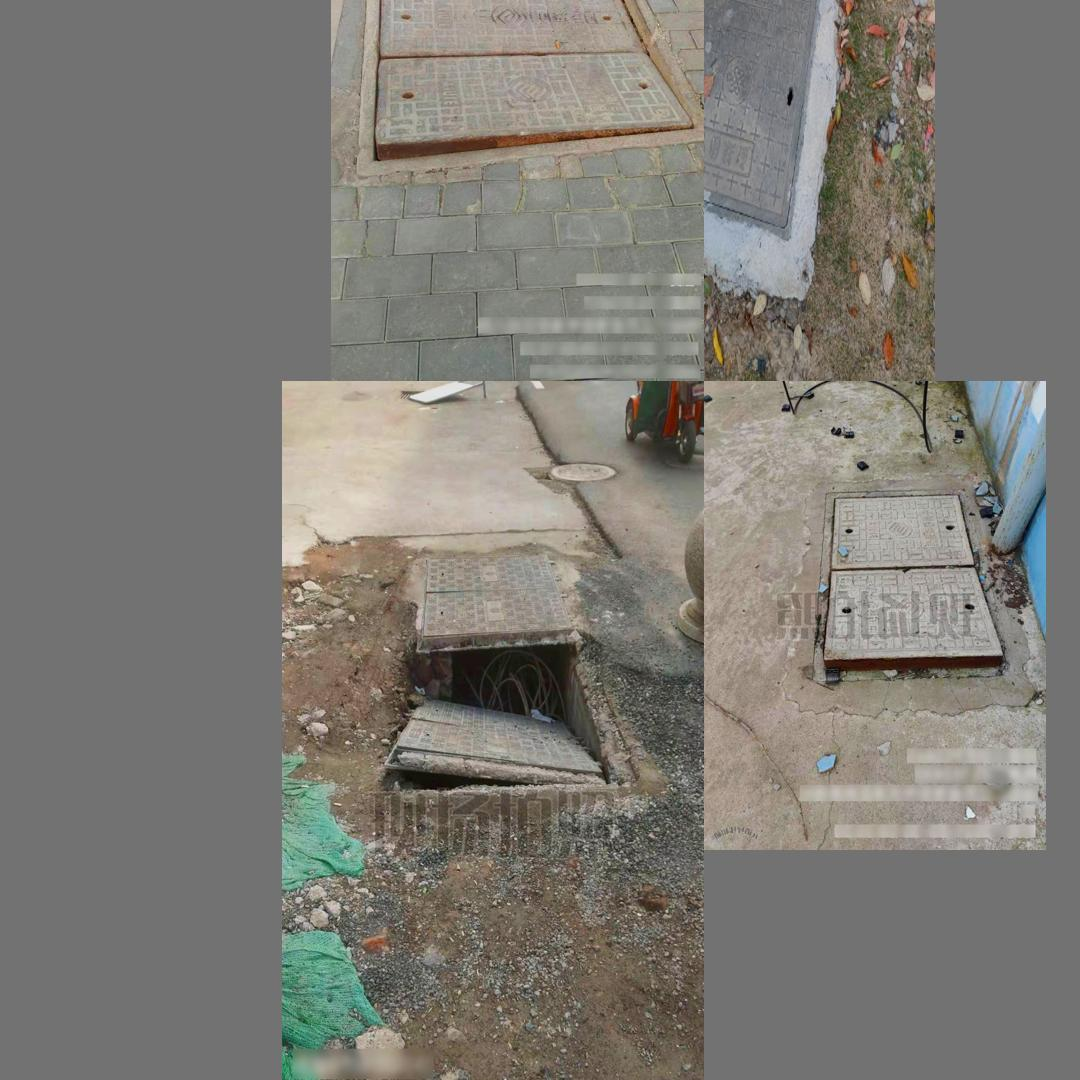good: (704, 0, 821, 239)
uncovered: (382, 546, 639, 798), (355, 0, 696, 175), (811, 487, 1012, 681)
